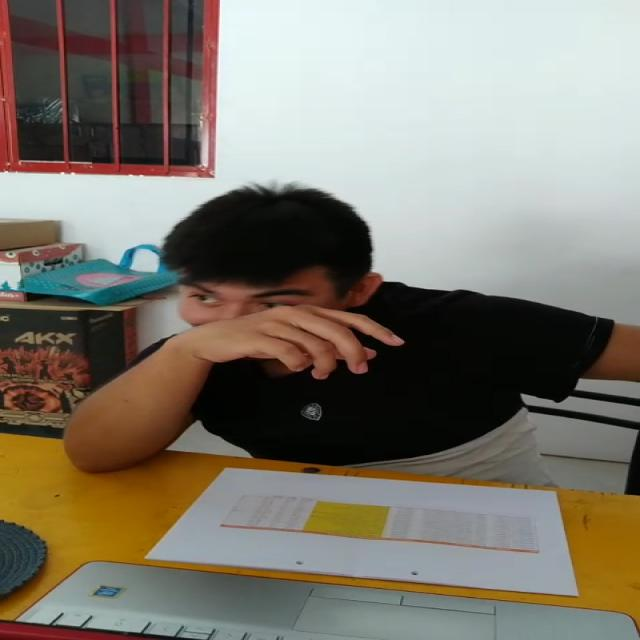7_mano_rostro: (146, 301, 364, 370)
